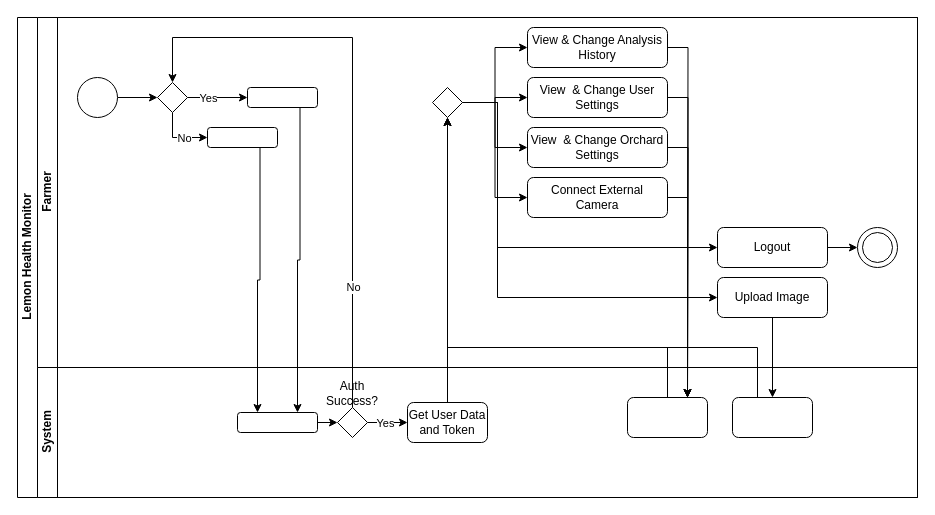
Image size: 935x515. Some labels were removed from this diagram. Here are the shapes that lost their labels. From the top down, the centre of each, then its label:
At [172,97]: "Has Account?".
At [282,97]: "Login User".
At [242,137]: "Register".
At [277,422]: "Authenticate".
At [667,417]: "Save New Data".
At [772,417]: "Run & Show Analysis".
